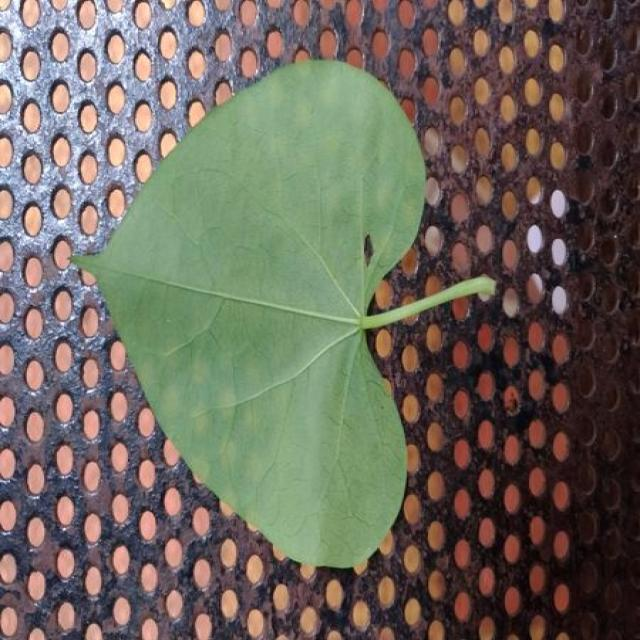Amruthaballi: (75, 60, 497, 567)
defectedAmruthaballi: (272, 152, 423, 319)
